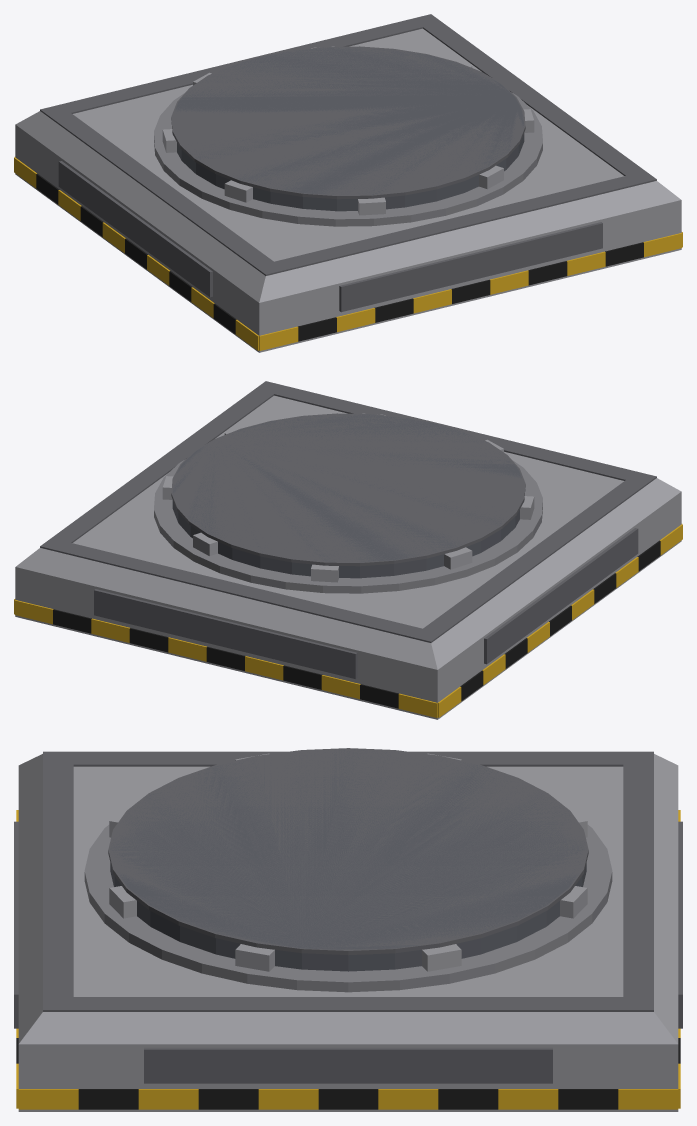
The model's file is vge_gun_pedestal_5x5.obj.
3 renders of one model, top to bottom at view 1: azimuth 30°, elevation 25°; view 2: azimuth 150°, elevation 25°; view 3: azimuth 270°, elevation 25°, orthographic. The views are drawn at different scales.
Visible parts, largest first — view 1: vge_gun_pedestal_5x5_1, vge_gun_pedestal_5x5_56, vge_gun_pedestal_5x5_55, vge_gun_pedestal_5x5_0, vge_gun_pedestal_5x5_54, vge_gun_pedestal_5x5_5, vge_gun_pedestal_5x5_50, vge_gun_pedestal_5x5_3, vge_gun_pedestal_5x5_52, vge_gun_pedestal_5x5_53, vge_gun_pedestal_5x5_51, vge_gun_pedestal_5x5_7 (+10 smaller); view 2: vge_gun_pedestal_5x5_56, vge_gun_pedestal_5x5_1, vge_gun_pedestal_5x5_55, vge_gun_pedestal_5x5_0, vge_gun_pedestal_5x5_54, vge_gun_pedestal_5x5_4, vge_gun_pedestal_5x5_51, vge_gun_pedestal_5x5_3, vge_gun_pedestal_5x5_52, vge_gun_pedestal_5x5_53, vge_gun_pedestal_5x5_50, vge_gun_pedestal_5x5_6 (+10 smaller); view 3: vge_gun_pedestal_5x5_56, vge_gun_pedestal_5x5_55, vge_gun_pedestal_5x5_1, vge_gun_pedestal_5x5_0, vge_gun_pedestal_5x5_2, vge_gun_pedestal_5x5_54, vge_gun_pedestal_5x5_53, vge_gun_pedestal_5x5_50, vge_gun_pedestal_5x5_51, vge_gun_pedestal_5x5_52, vge_gun_pedestal_5x5_8, vge_gun_pedestal_5x5_12 (+15 smaller).
Boxes of the visible parts, x1,y1,x2,y2 form: vge_gun_pedestal_5x5_1: (15,28,680,302); vge_gun_pedestal_5x5_56: (171,46,525,199); vge_gun_pedestal_5x5_55: (175,47,524,211); vge_gun_pedestal_5x5_0: (15,124,681,352); vge_gun_pedestal_5x5_54: (154,92,542,226); vge_gun_pedestal_5x5_5: (339,222,602,312); vge_gun_pedestal_5x5_50: (254,171,656,275); vge_gun_pedestal_5x5_3: (58,161,212,297); vge_gun_pedestal_5x5_52: (51,113,273,267); vge_gun_pedestal_5x5_53: (423,22,644,175); vge_gun_pedestal_5x5_51: (40,14,441,118); vge_gun_pedestal_5x5_7: (259,326,298,350); vge_gun_pedestal_5x5_56: (171,413,525,566); vge_gun_pedestal_5x5_1: (16,395,681,669); vge_gun_pedestal_5x5_55: (172,414,521,578); vge_gun_pedestal_5x5_0: (15,491,681,719); vge_gun_pedestal_5x5_54: (154,459,542,593); vge_gun_pedestal_5x5_4: (94,589,357,679); vge_gun_pedestal_5x5_51: (40,538,442,642); vge_gun_pedestal_5x5_3: (484,528,638,664); vge_gun_pedestal_5x5_52: (423,480,645,634); vge_gun_pedestal_5x5_53: (52,389,273,542); vge_gun_pedestal_5x5_50: (255,381,656,485); vge_gun_pedestal_5x5_6: (398,693,437,717); vge_gun_pedestal_5x5_56: (108,748,588,955); vge_gun_pedestal_5x5_55: (110,749,586,971); vge_gun_pedestal_5x5_1: (18,754,678,1044); vge_gun_pedestal_5x5_0: (18,1044,678,1111); vge_gun_pedestal_5x5_2: (144,1047,552,1083); vge_gun_pedestal_5x5_54: (84,825,612,992); vge_gun_pedestal_5x5_53: (73,997,623,1011); vge_gun_pedestal_5x5_50: (43,751,73,1011); vge_gun_pedestal_5x5_51: (623,751,653,1011); vge_gun_pedestal_5x5_52: (73,751,623,766); vge_gun_pedestal_5x5_8: (18,1089,78,1109); vge_gun_pedestal_5x5_12: (78,1089,138,1109).
Size of the model in its own units: 3.65 by 0.74 by 3.65.
